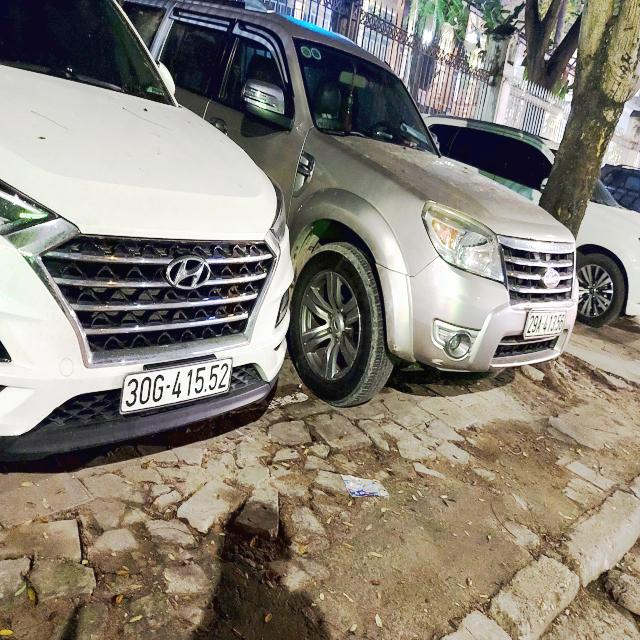license_plate: (117, 354, 238, 419), (522, 308, 571, 342)
